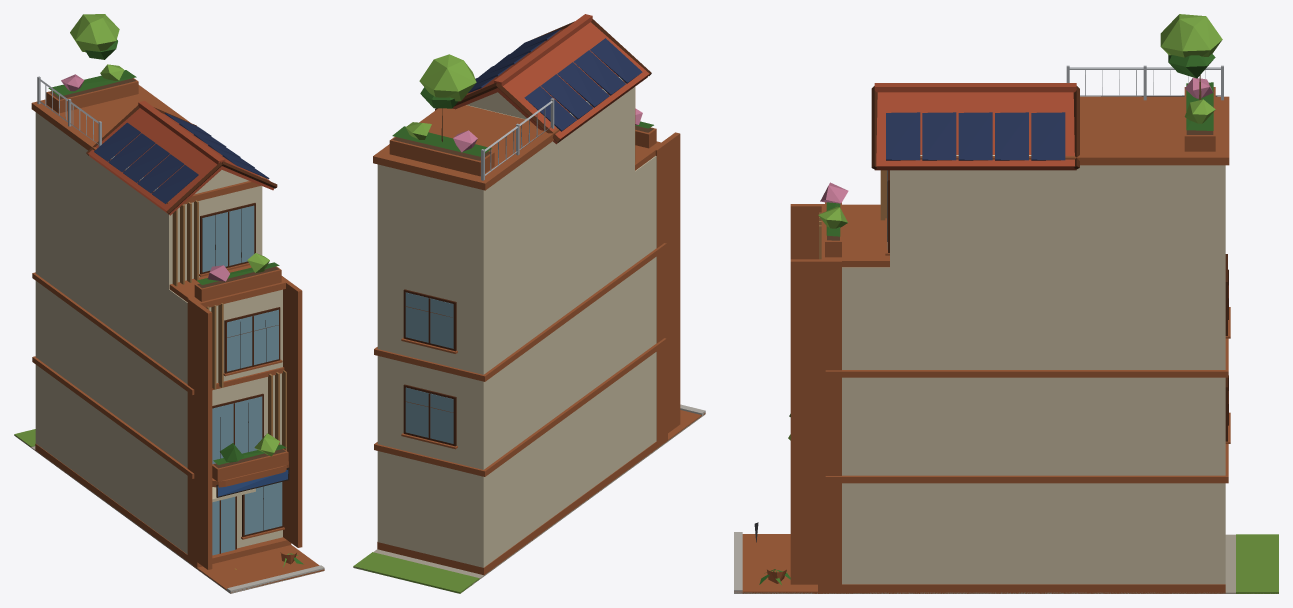
The model's file is bay2_mid.glb.
3 views of the same model, side by side, from view 1: azimuth 30°, elevation 25°; view 2: azimuth 150°, elevation 25°; view 3: azimuth 270°, elevation 25° (orthographic). The views are drawn at different scales.
Parts seen in each view (by area): view 1: body; view 2: body; view 3: body.
Part boxes in pixels (<box>): body: <box>14,14,324,593</box>; body: <box>353,14,705,593</box>; body: <box>734,14,1278,593</box>.
Bounding box in the file's own units: 4.7 × 17.63 × 15.9.
